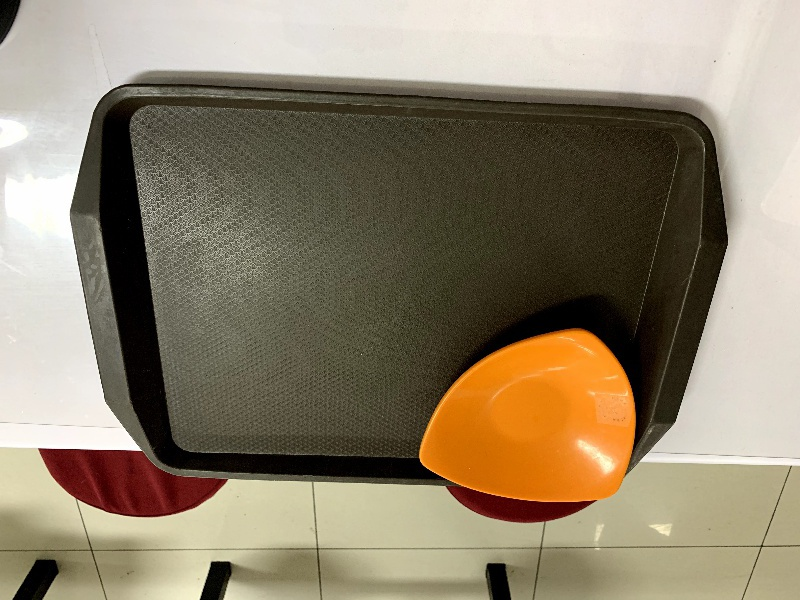dish11: (412, 320, 642, 506)
